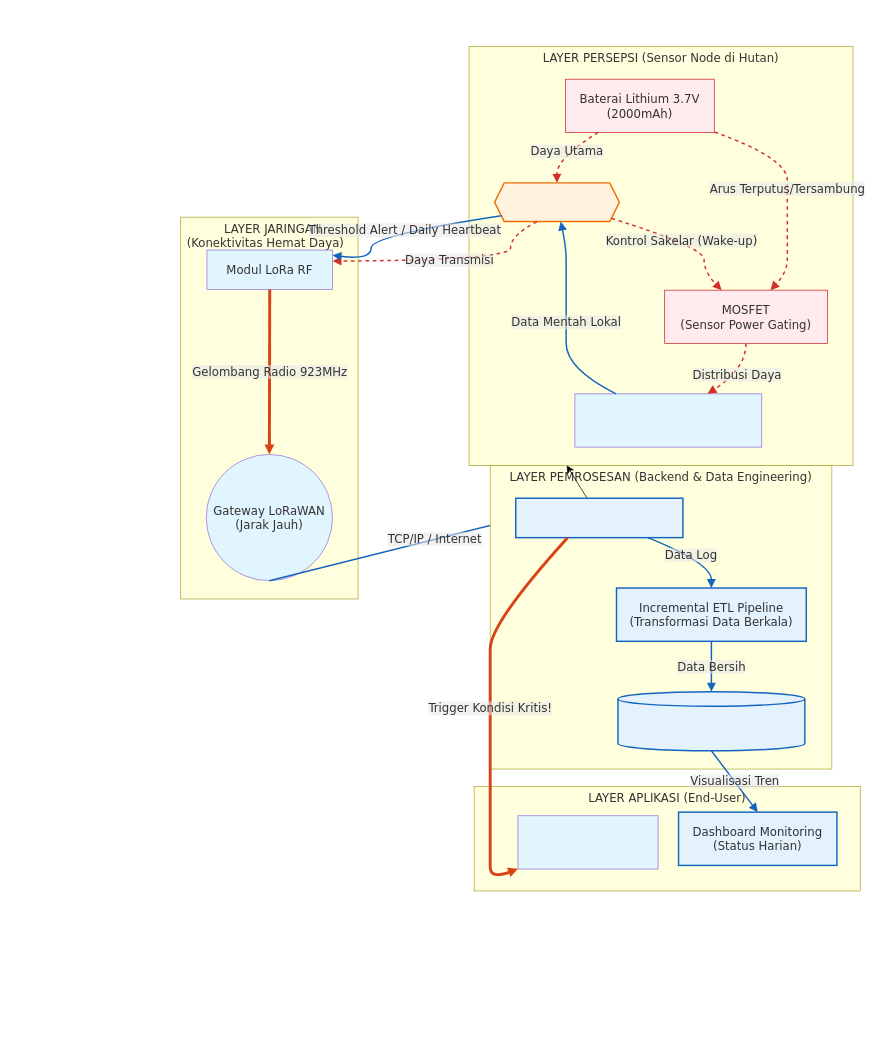
Image size: 877x1056. Some labels were removed from this diagram. The centre of each missing label's shape, as x and y in pixels:
Data Warehouse (Penyimpanan & Analisis Historis): (x=711, y=721)
Mikrokontroler (Deep Sleep Logic): (x=556, y=202)
MQTT / Network Server: (x=599, y=517)
Notifikasi Darurat (Telegram / Alarm): (x=587, y=842)
Sensor Suhu, Kelembapan, dan Gas CO2: (x=668, y=420)
